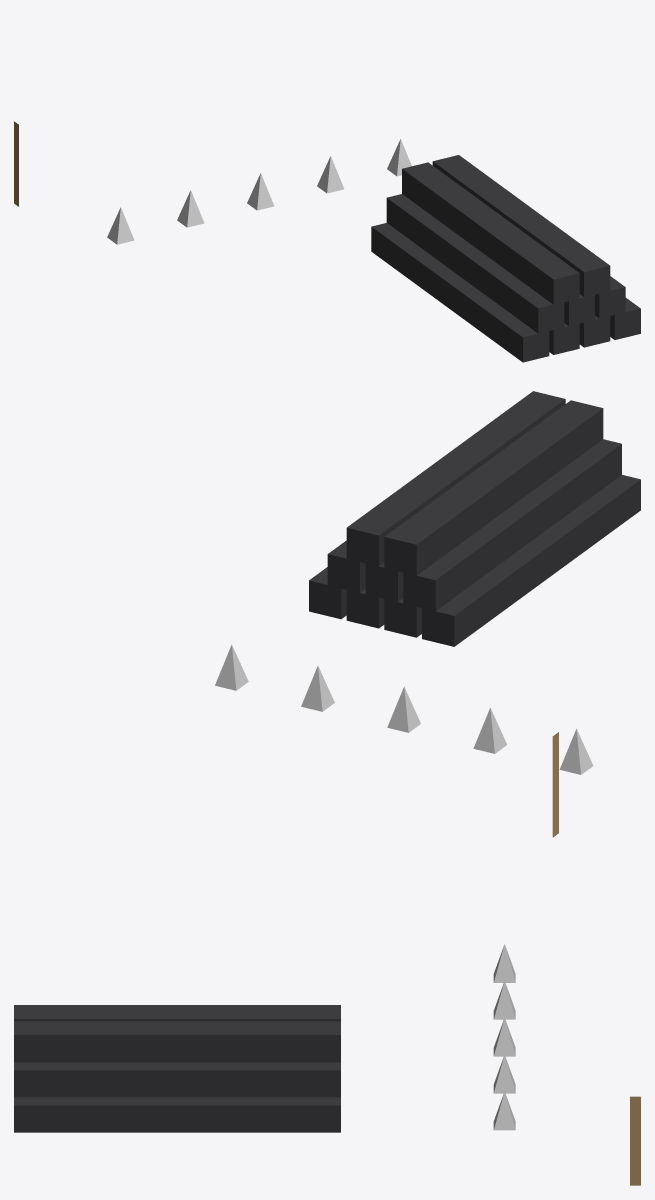
The model's file is obra_blocos_tapume.glb.
The picture shows the model from 3 angles, top to bottom: view 1: azimuth 30°, elevation 25°; view 2: azimuth 150°, elevation 25°; view 3: azimuth 270°, elevation 25°; orthographic projection. The views are drawn at different scales.
Parts seen in each view (by area): view 1: Malha_0; view 2: Malha_0; view 3: Malha_0.
Part boxes in pixels (bbox=[...]): Malha_0: bbox=[14, 121, 640, 362]; Malha_0: bbox=[215, 391, 640, 837]; Malha_0: bbox=[14, 944, 640, 1185].
Bounding box in the file's own units: 10 × 1.8 × 11.5.
